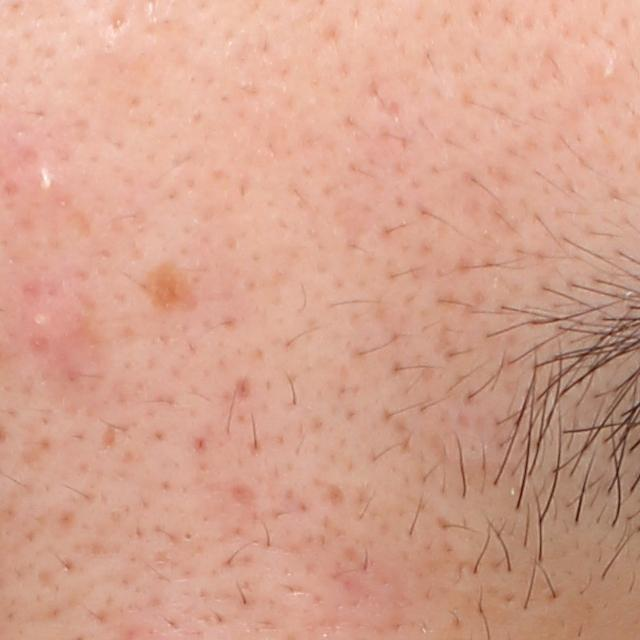comedo: (595, 59, 624, 84)
pustule: (24, 164, 64, 198)
